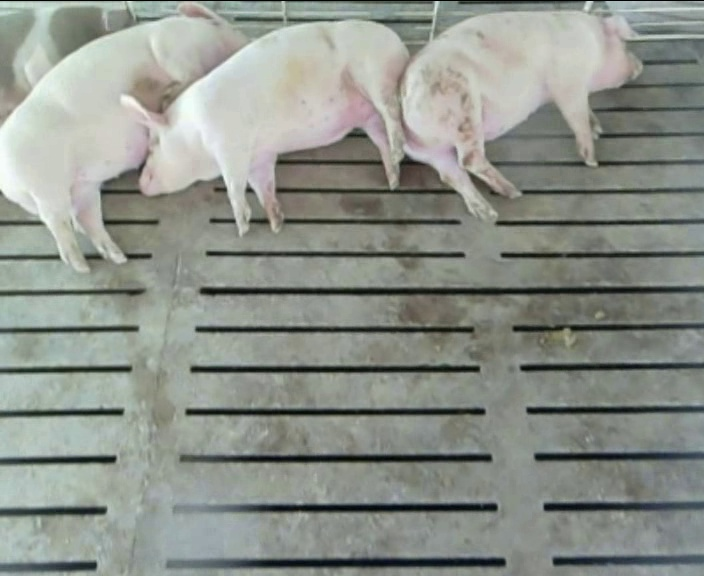pig: (0, 4, 246, 271), (122, 22, 407, 234), (401, 11, 641, 220)
